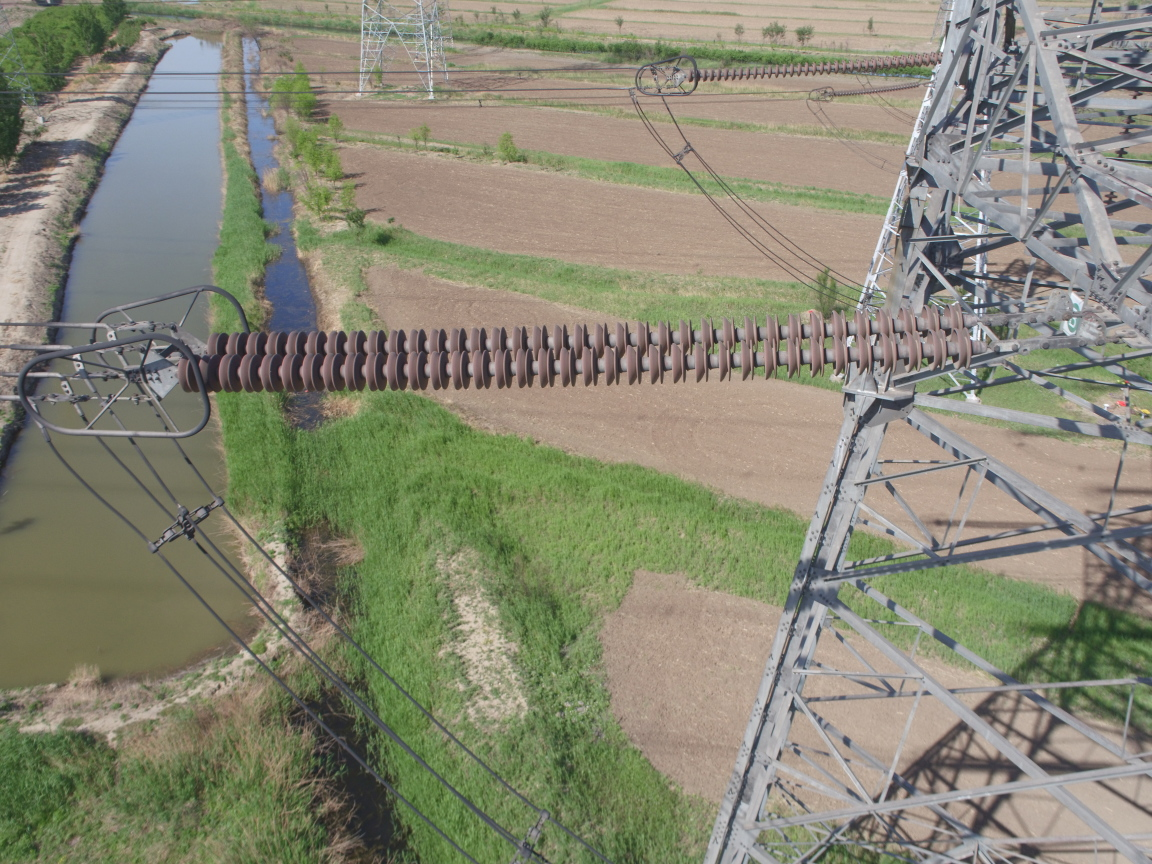insulator: (165, 297, 1036, 397), (675, 47, 947, 85)
